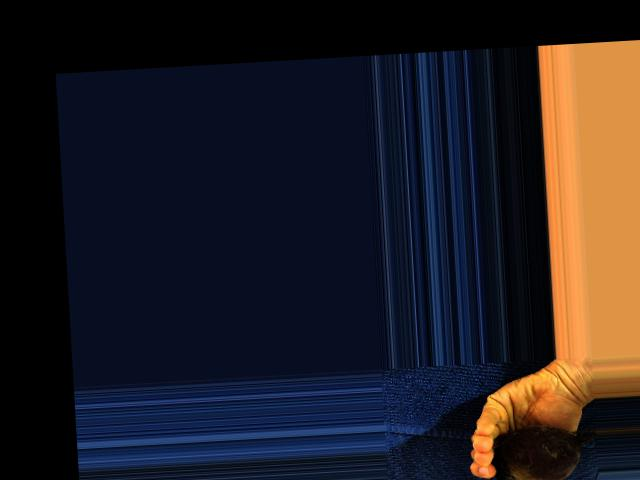beet: (483, 421, 598, 480)
